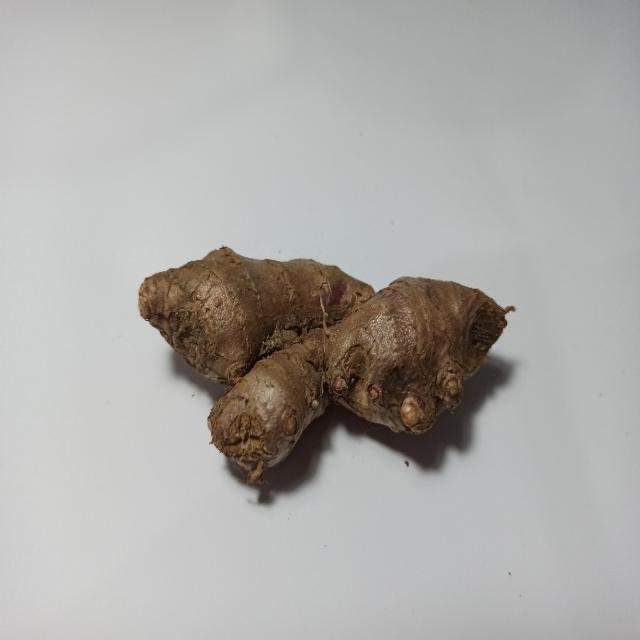ginger: (141, 249, 504, 476)
